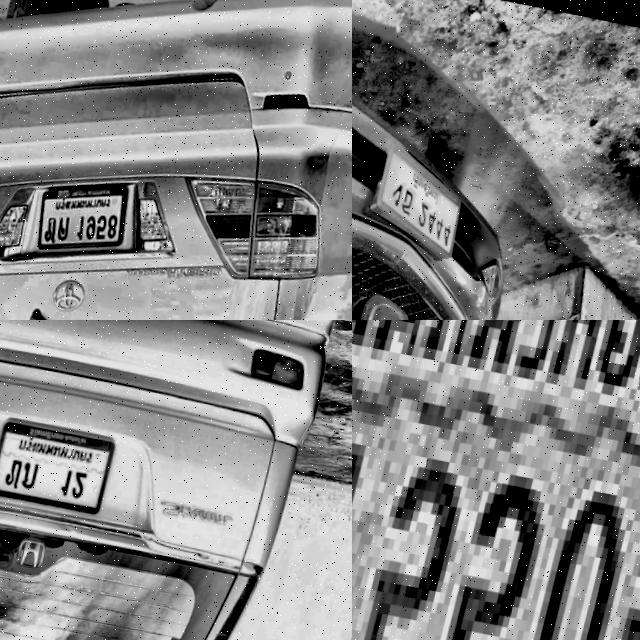license-plate: (352, 320, 640, 640), (0, 407, 129, 518), (368, 139, 483, 257), (27, 164, 148, 270)
